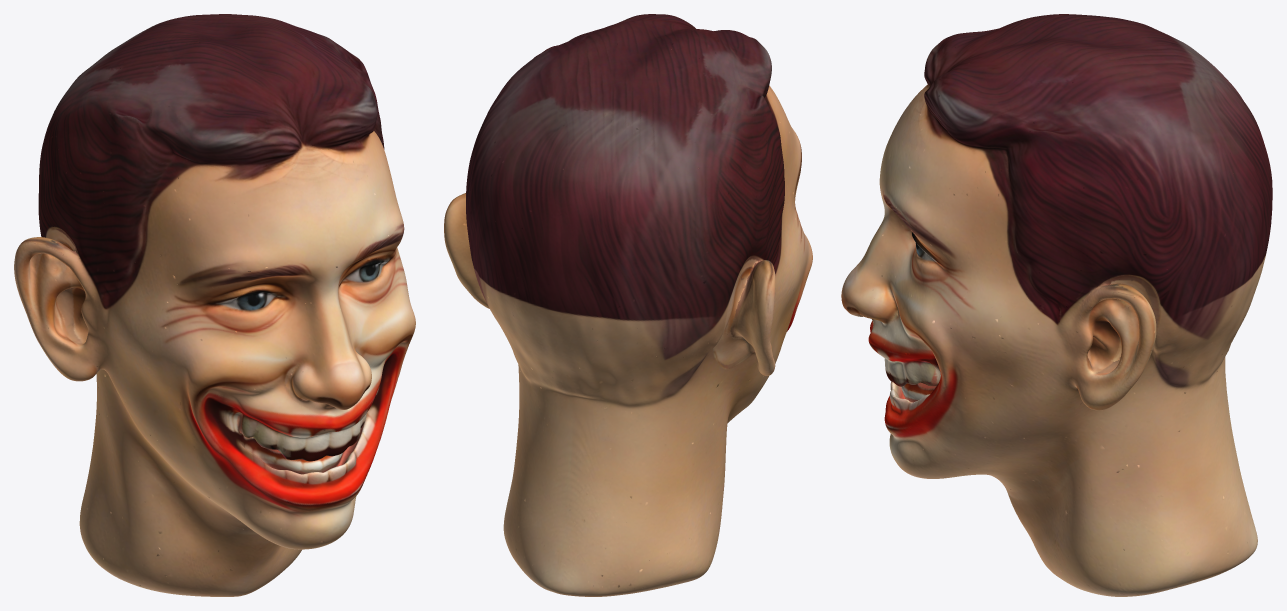
File: head.glb
3 views of the same model, side by side, from view 1: azimuth 30°, elevation 25°; view 2: azimuth 150°, elevation 25°; view 3: azimuth 270°, elevation 25° (orthographic). The views are drawn at different scales.
Size of the model in its own units: 1.35 by 2 by 1.45.
Materials: 1 (1 with a texture image).
